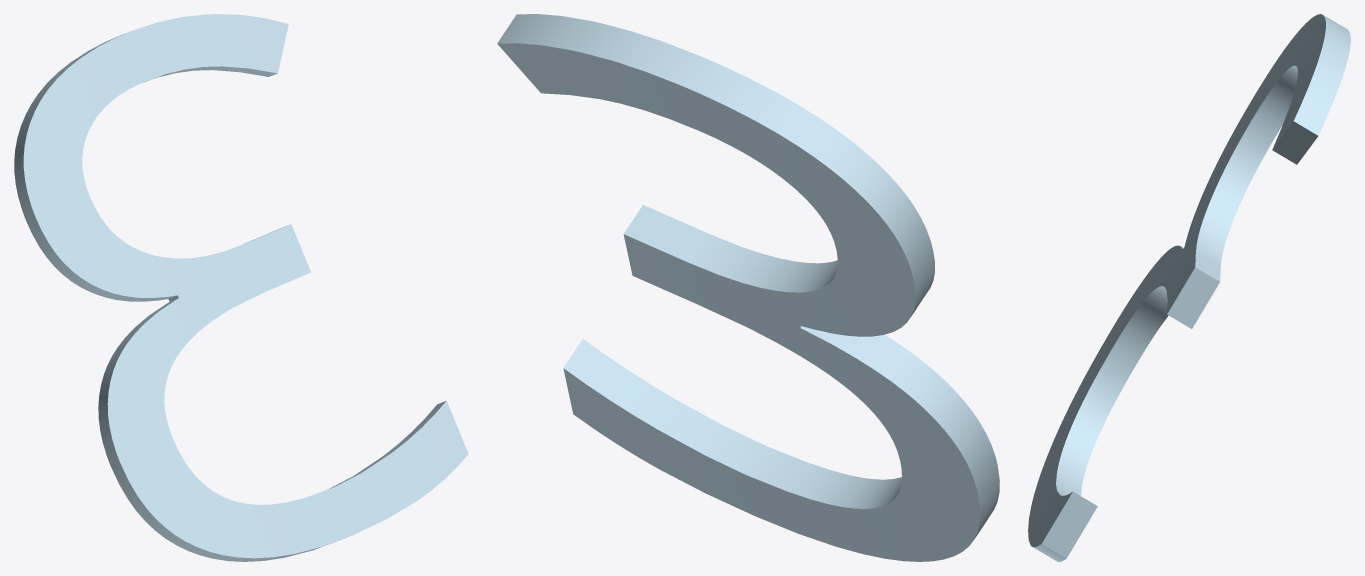
Rendered from Number_3.gltf.
The picture shows the model from 3 angles, left to right: view 1: azimuth 30°, elevation 25°; view 2: azimuth 150°, elevation 25°; view 3: azimuth 270°, elevation 25°; orthographic projection. The views are drawn at different scales.
Visible parts, largest first — view 1: Sub_8_Cell_1_1_Number_3; view 2: Sub_8_Cell_1_1_Number_3; view 3: Sub_8_Cell_1_1_Number_3.
Part boxes in pixels (<box>): Sub_8_Cell_1_1_Number_3: <box>14,14,468,561</box>; Sub_8_Cell_1_1_Number_3: <box>497,14,999,561</box>; Sub_8_Cell_1_1_Number_3: <box>1028,14,1350,561</box>.
Size of the model in its own units: 0.0184 by 0.0231 by 0.014.
